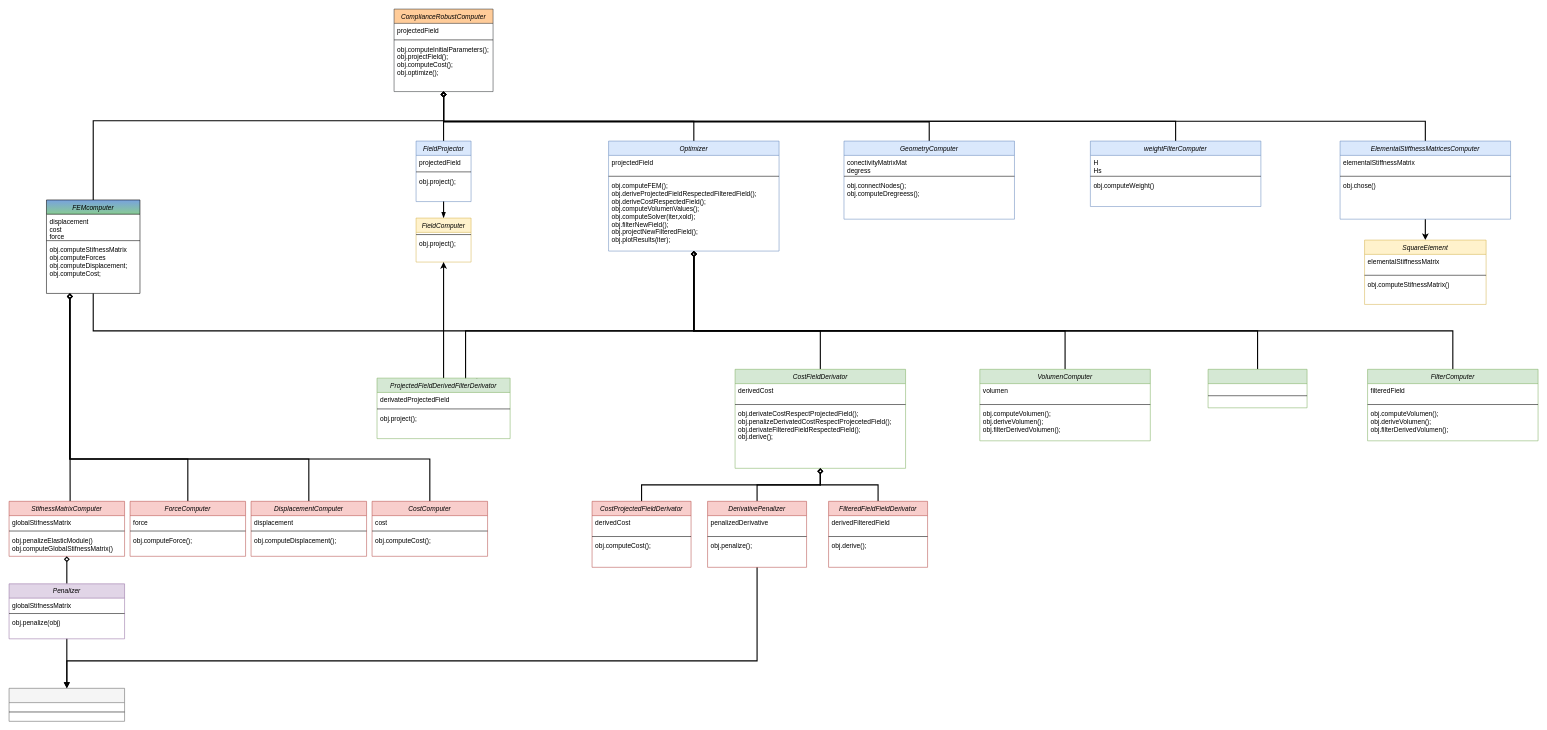
Some shapes in this 1547 by 730 pixel diagram are drawn without their labels. Each missing label, with the centre of its shape:
"CostAndConstraintArturo" goes at (x=1257, y=388).
"SIMPcomputer" goes at (x=67, y=704).
